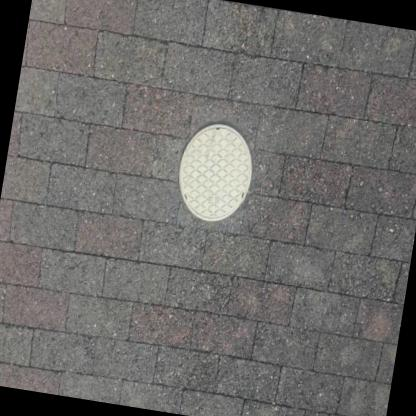manholes: (160, 102, 276, 250)
